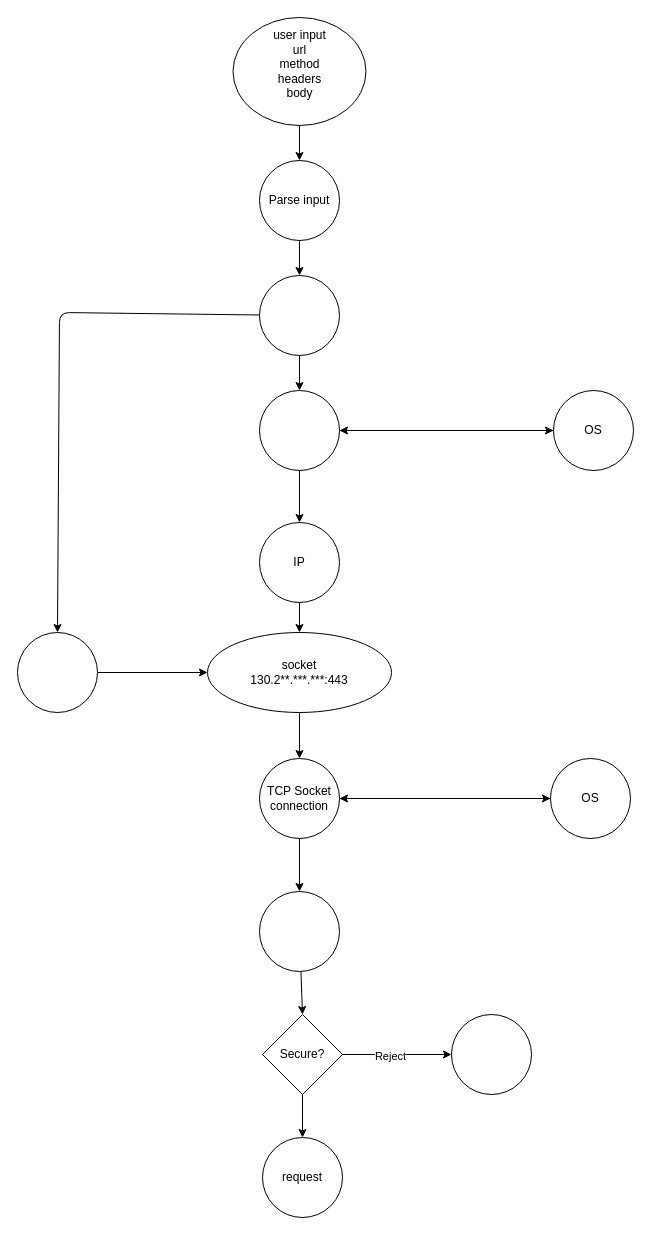
Image size: 651x1235. Some labels were removed from this diagram. Each missing label, with the centre of its shape:
"DNS Resolver" belongs at (x=299, y=430).
"Error" belongs at (x=491, y=1054).
"Parse url" belongs at (x=299, y=315).
"port 80 or 443" belongs at (x=57, y=672).
"TSL / SSL HANDSHAKE" belongs at (x=299, y=931).
